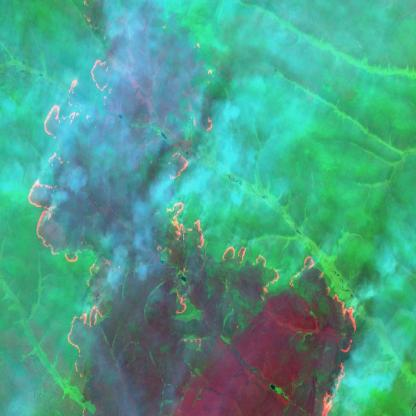fire: (25, 0, 359, 416)
